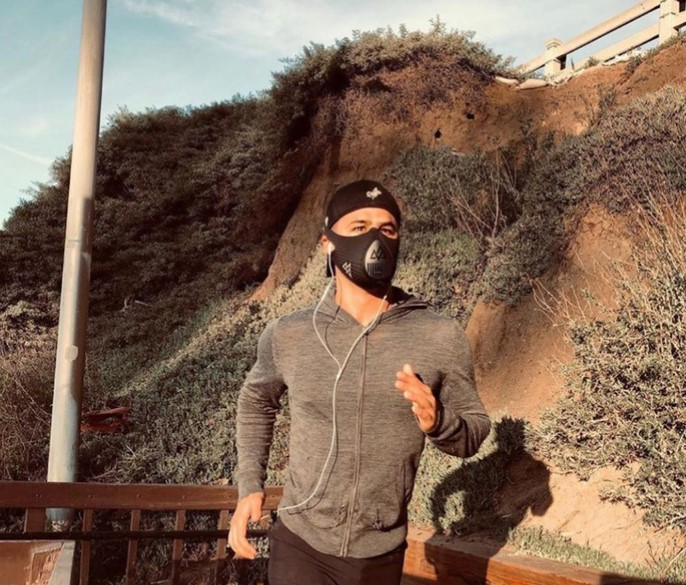face_with_mask: (320, 178, 402, 294)
